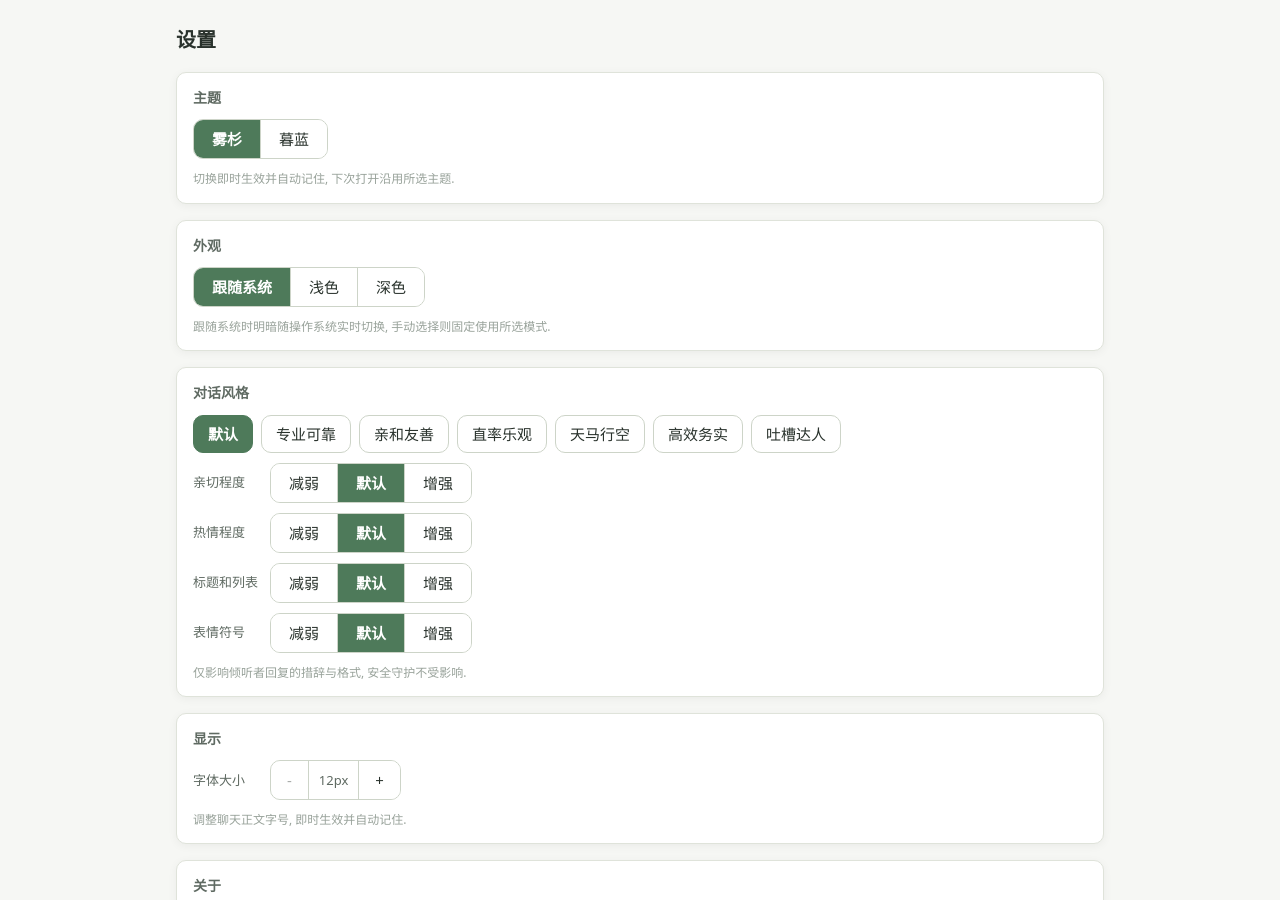
Test: SettingsView 显示-字体大小 (Task 4) › clamp 下界: 预置 12 时 − 禁用, + 可进到 13 并持久化
The image size is (1280, 900).
Expected: the text "12px" is shown, [308,761,359,799]
Expected: the button named "减小字体" is disabled, [271,761,308,799]
Click the button named "增大字体" at (380, 780), box [359,761,400,799]
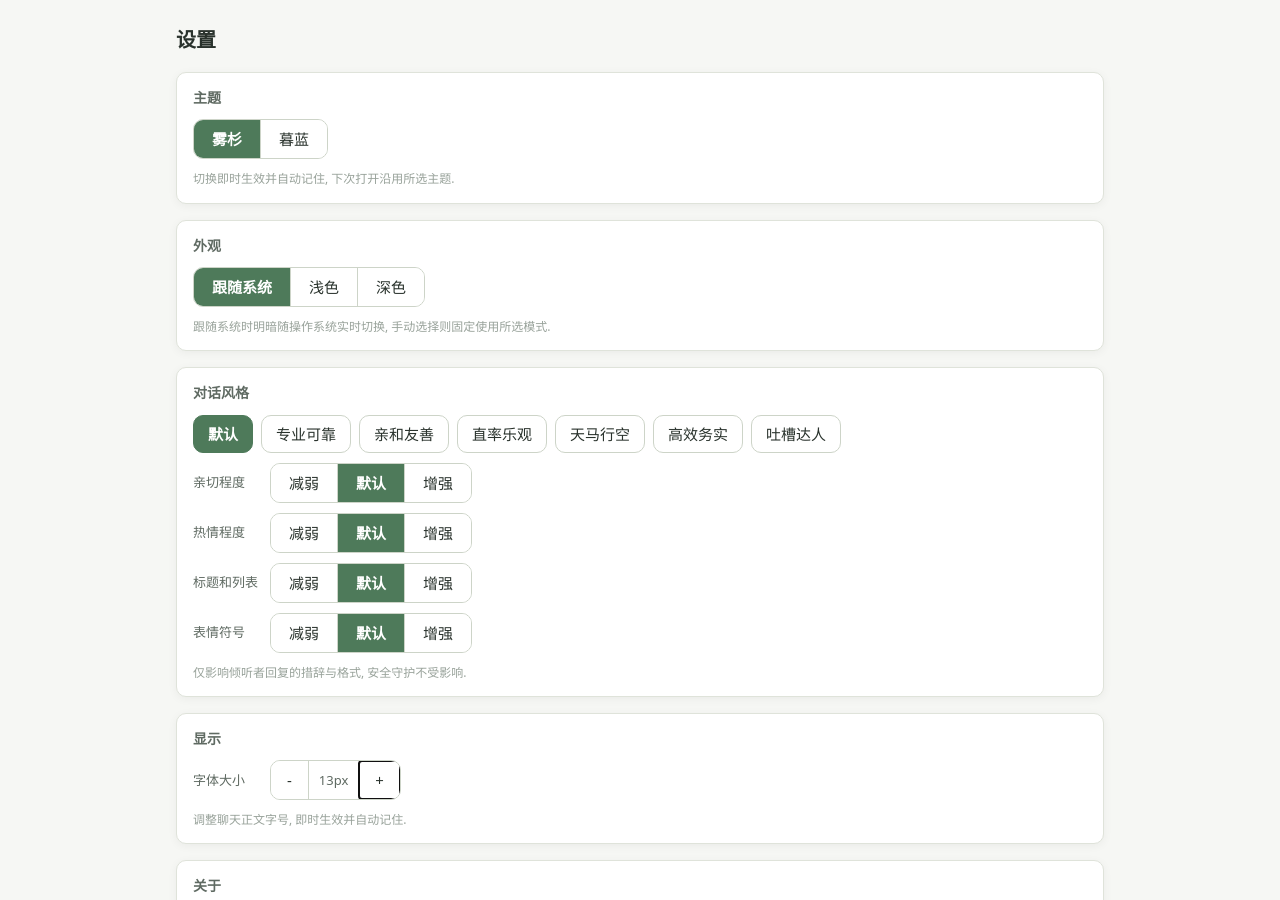
Expected: the button named "减小字体" is enabled, [271,761,308,799]
Result: the text "13px" is shown at [308,761,359,799]
